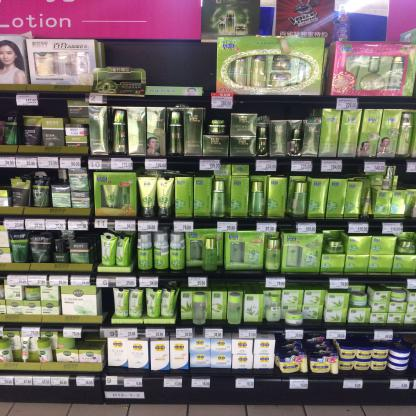Void: (42, 98, 61, 115), (351, 330, 369, 345), (398, 330, 414, 345), (81, 332, 97, 346)
